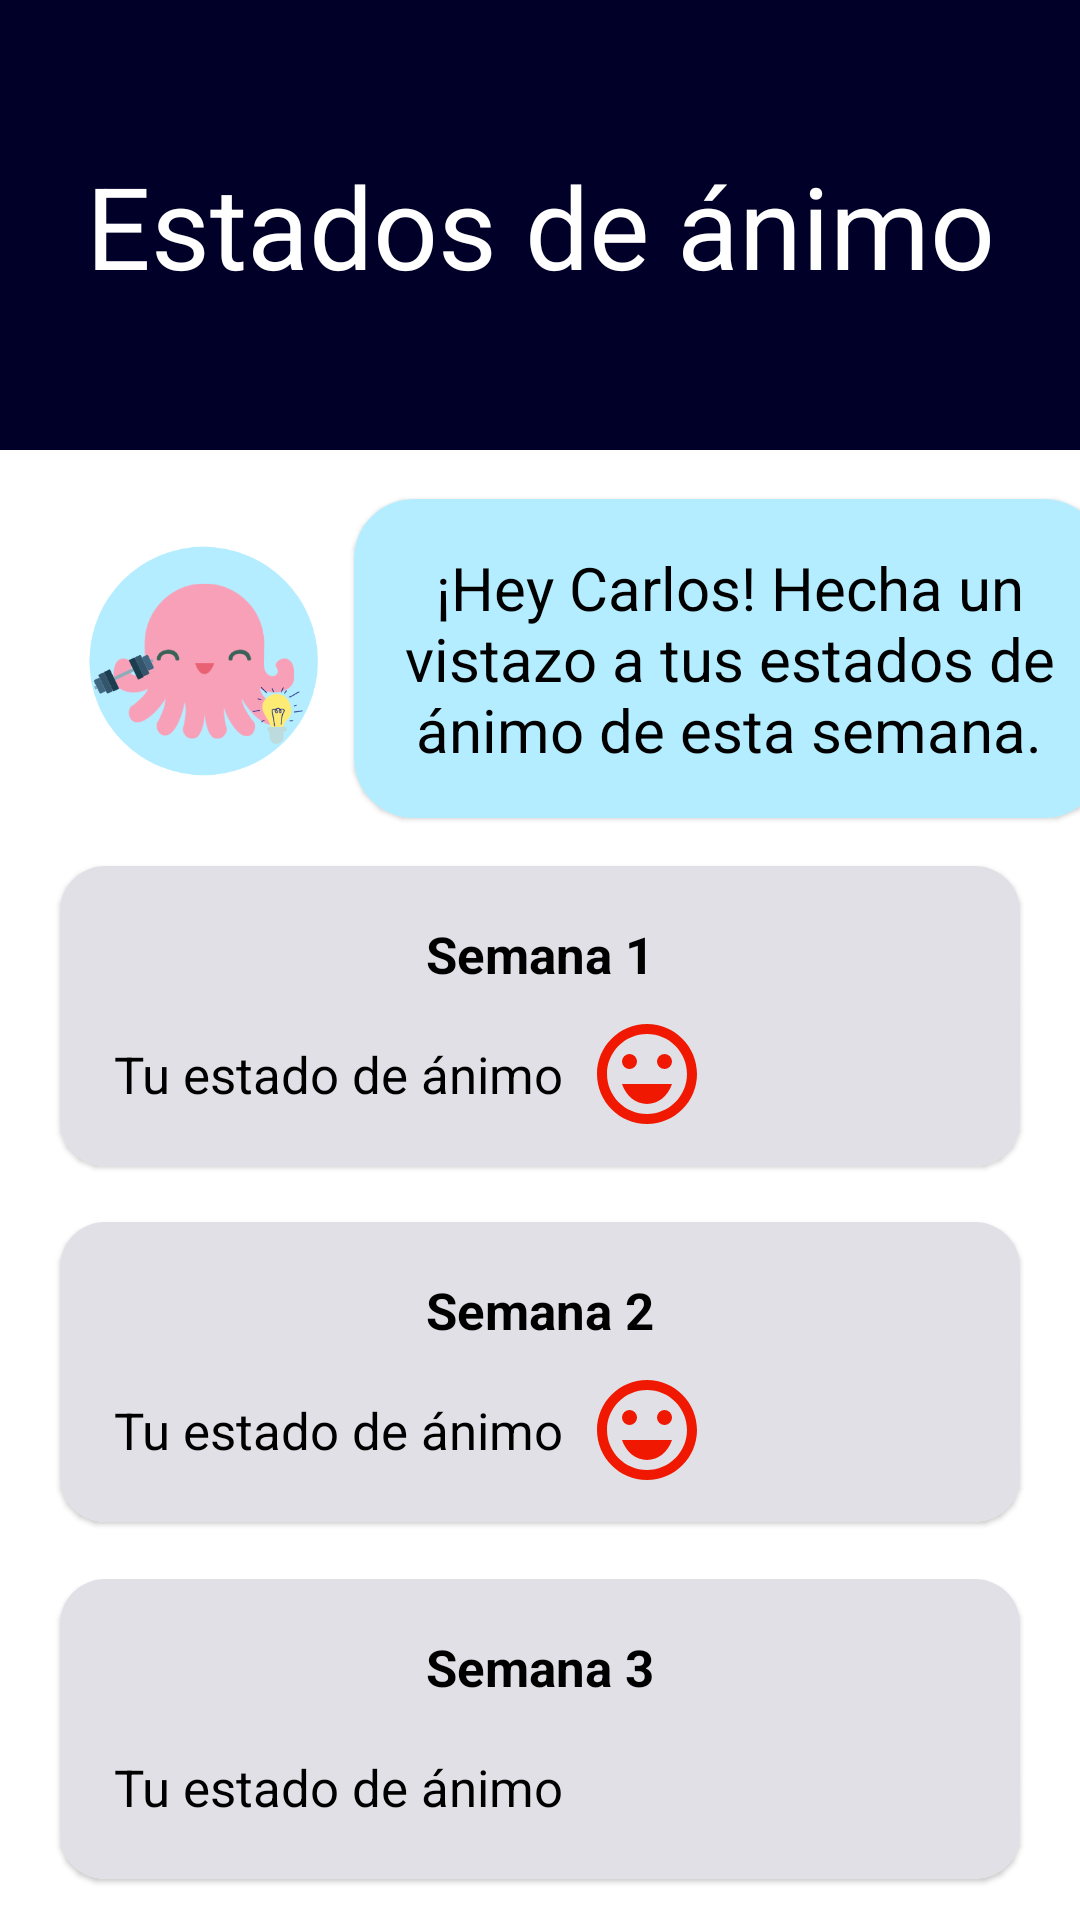

Point at icon controls on the screen. Image size 1080x1920, points as [x,y].
emoji emotions: [647,1074], [647,1430]
